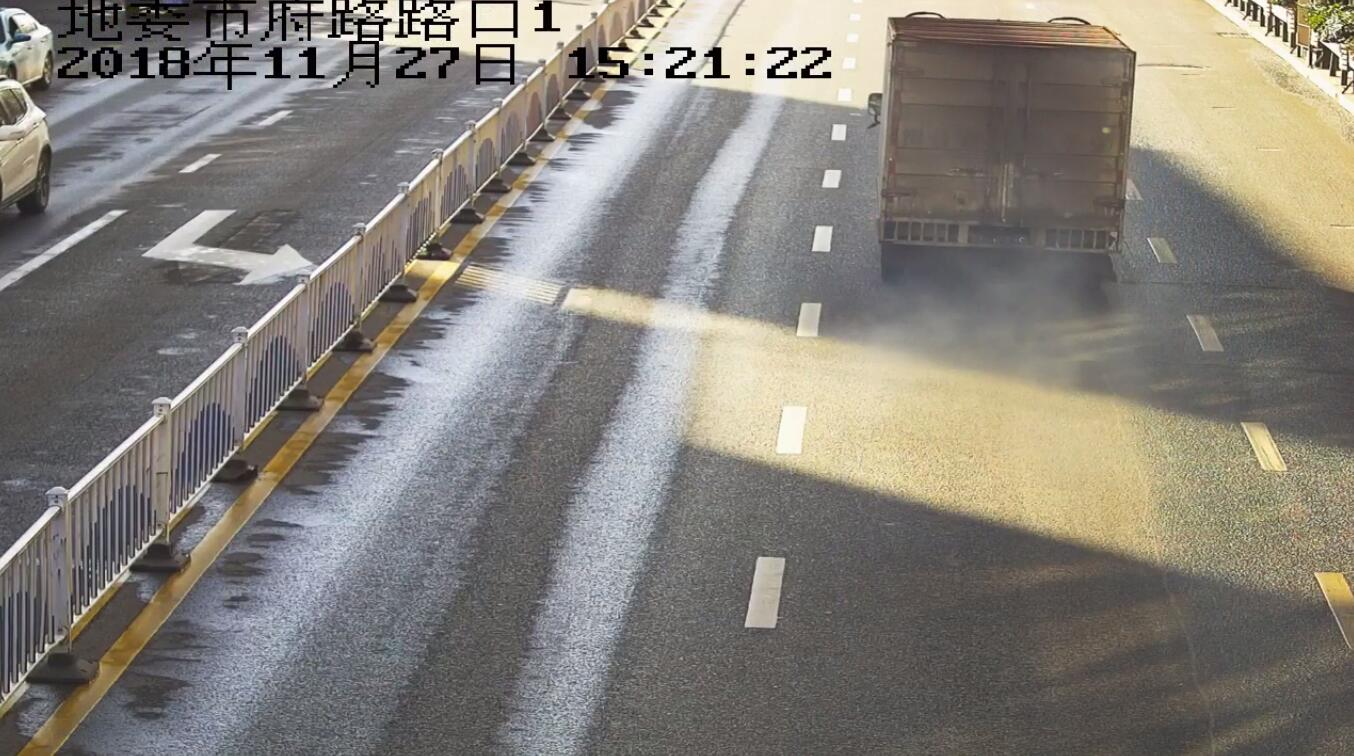yanwu: (859, 258, 1141, 384)
